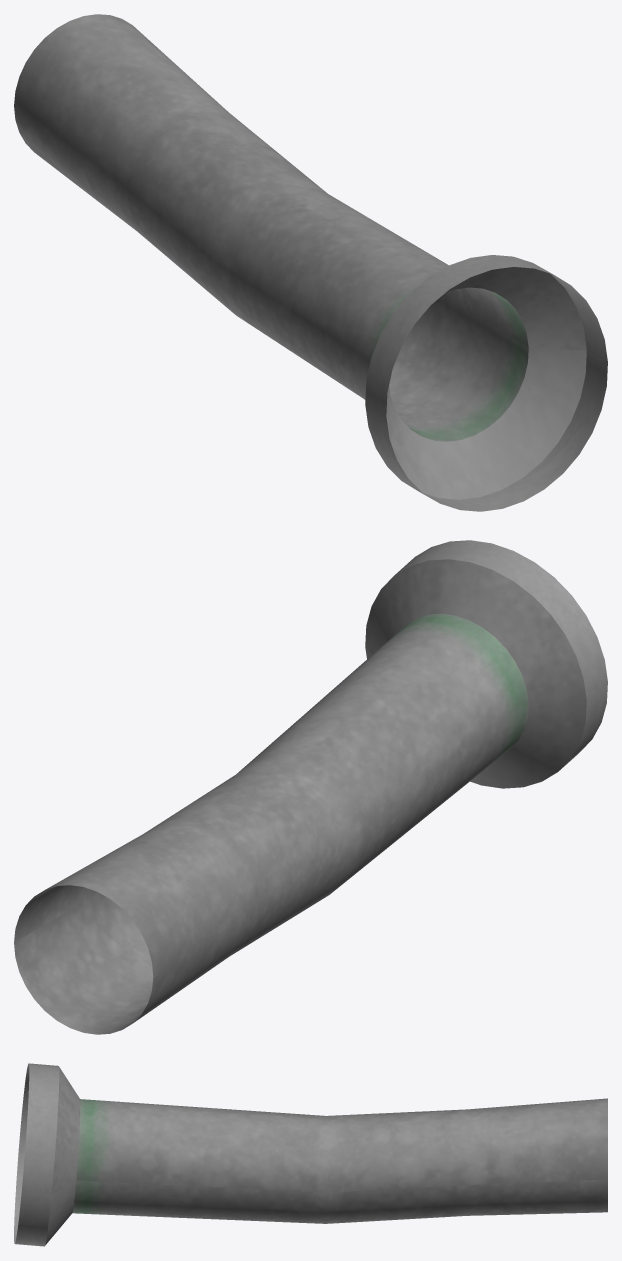
Rendered from SM_Tuberia1.fbx.
3 views of the same model, one above another, from view 1: azimuth 30°, elevation 25°; view 2: azimuth 150°, elevation 25°; view 3: azimuth 270°, elevation 25° (orthographic). The views are drawn at different scales.
Parts seen in each view (by area): view 1: SM_Tuberia1; view 2: SM_Tuberia1; view 3: SM_Tuberia1.
Boxes of the visible parts, x1,y1,x2,y2 form: SM_Tuberia1: [14, 14, 607, 511]; SM_Tuberia1: [14, 540, 607, 1034]; SM_Tuberia1: [14, 1063, 607, 1246].
Bounding box in the file's own units: 201 × 204 × 659.
